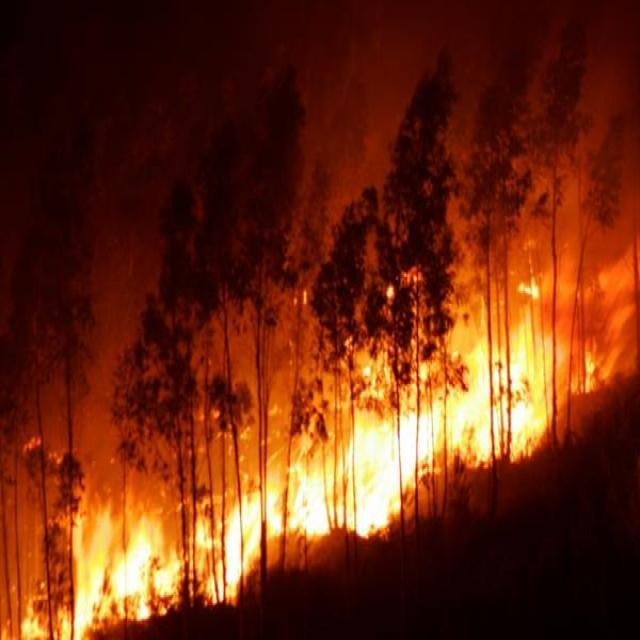Fire: (0, 280, 640, 640)
Smoke: (0, 1, 640, 484)
